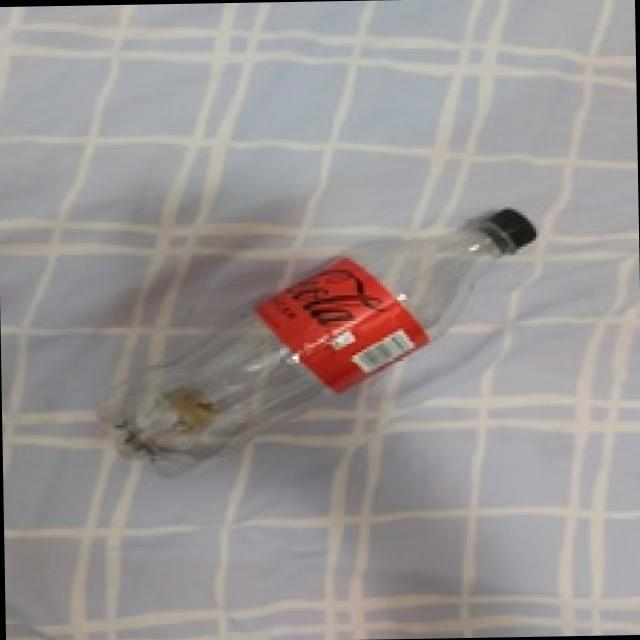good: (99, 199, 543, 492)
